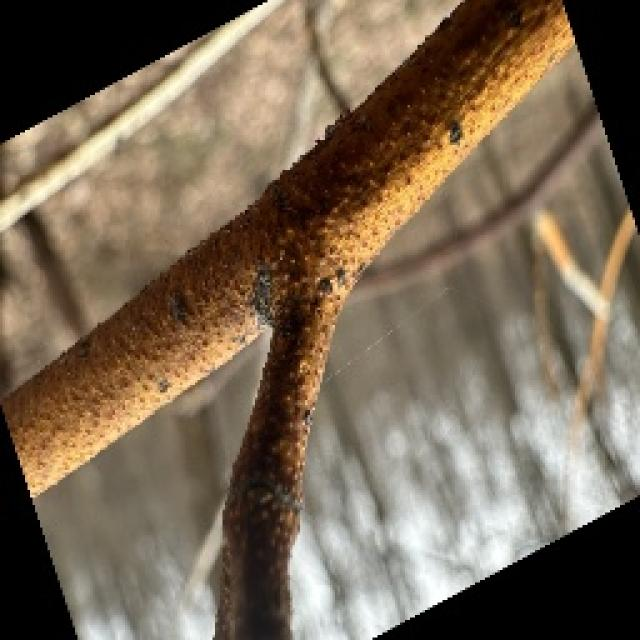Golden_canker: (8, 12, 628, 640)
